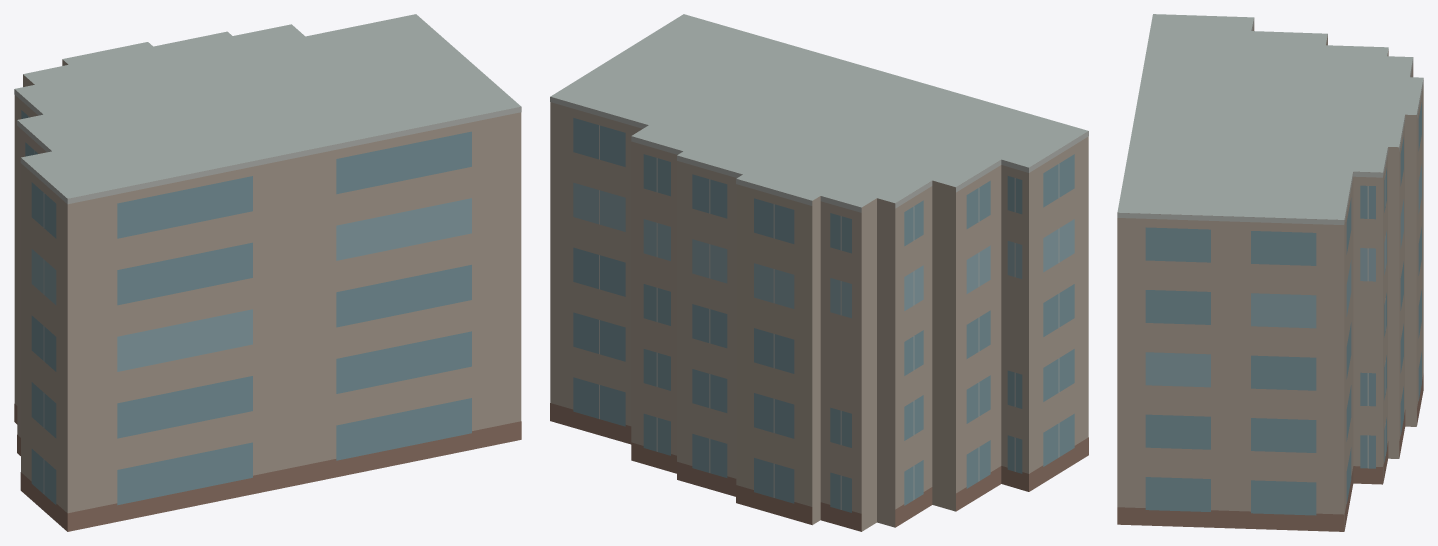
Rendered from survey-upis-32937215.glb.
3 views of the same model, side by side, from view 1: azimuth 30°, elevation 25°; view 2: azimuth 150°, elevation 25°; view 3: azimuth 270°, elevation 25° (orthographic). The views are drawn at different scales.
Parts seen in each view (by area): view 1: survey-upis-32937215.tmp; view 2: survey-upis-32937215.tmp; view 3: survey-upis-32937215.tmp.
Part boxes in pixels (left/top/right/bottom): survey-upis-32937215.tmp: left=14, top=14, right=521, bottom=531; survey-upis-32937215.tmp: left=550, top=14, right=1088, bottom=531; survey-upis-32937215.tmp: left=1117, top=14, right=1423, bottom=531.
Size of the model in its own units: 20.9 by 14.75 by 13.14.
